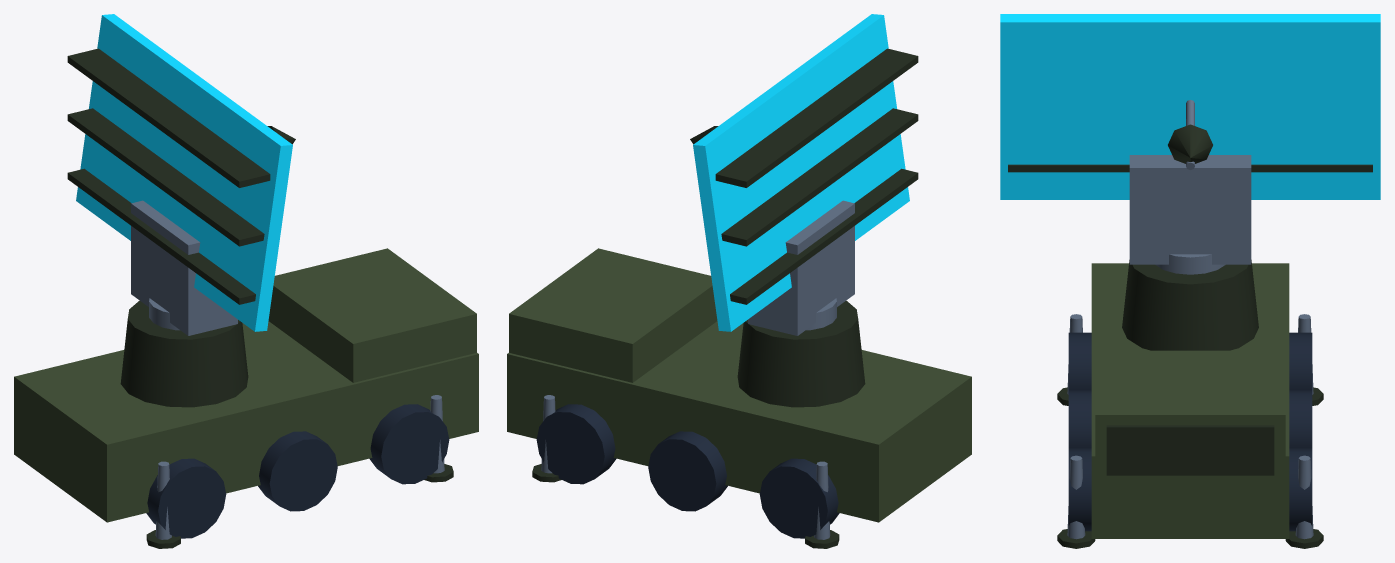
File: radar_3d.glb
3 views of the same model, side by side, from view 1: azimuth 30°, elevation 25°; view 2: azimuth 150°, elevation 25°; view 3: azimuth 270°, elevation 25° (orthographic). The views are drawn at different scales.
Visible parts, largest first — view 1: RadarAntenna, object 1, object 2, object 18, object 7, object 9, object 5, object 12; view 2: RadarAntenna, object 1, object 2, object 18, object 6, object 8, object 4, object 10; view 3: RadarAntenna, object 1, object 2, object 18, object 3, object 8, object 9, object 6, object 7, object 4, object 5, object 14 (+3 smaller).
Boxes of the visible parts, x1,y1,x2,y2 form: RadarAntenna: (67, 14, 295, 335); object 1: (14, 321, 478, 522); object 2: (268, 248, 476, 382); object 18: (120, 300, 248, 407); object 7: (258, 431, 337, 511); object 9: (369, 404, 449, 484); object 5: (146, 458, 226, 538); object 12: (155, 461, 171, 539); RadarAntenna: (690, 14, 918, 335); object 1: (507, 321, 971, 522); object 2: (509, 248, 717, 382); object 18: (737, 300, 865, 407); object 6: (648, 431, 727, 511); object 8: (536, 404, 616, 484); object 4: (759, 458, 839, 538); object 10: (814, 461, 830, 539); RadarAntenna: (1000, 14, 1380, 274); object 1: (1091, 263, 1289, 538); object 2: (1095, 350, 1285, 497); object 18: (1122, 260, 1258, 350); object 3: (1106, 425, 1274, 475); object 8: (1289, 448, 1312, 531); object 9: (1068, 448, 1091, 531); object 6: (1289, 390, 1312, 448); object 7: (1068, 390, 1091, 448); object 4: (1289, 332, 1312, 390); object 5: (1068, 332, 1091, 390); object 14: (1295, 455, 1313, 539).
Size of the model in its own units: 6.06 by 6.2 by 5.
